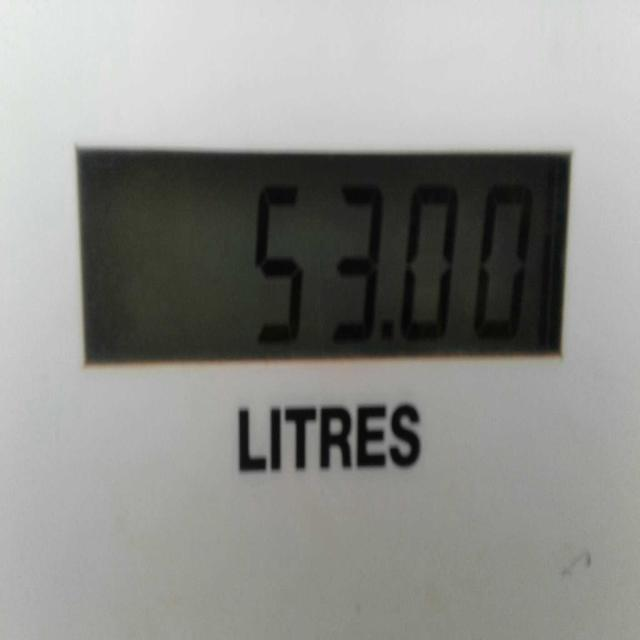.: (375, 292, 402, 355)
0: (397, 180, 467, 342), (471, 192, 538, 352)
3: (330, 180, 388, 346)
5: (232, 168, 309, 332)
